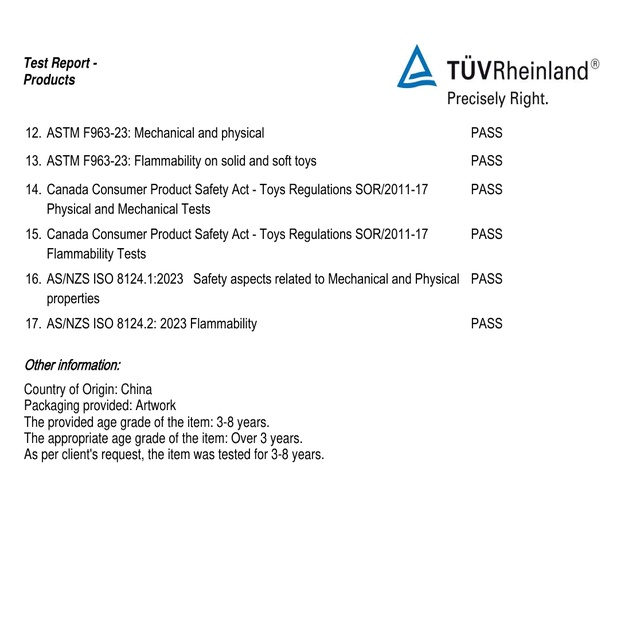tuv_rheinland: (394, 39, 603, 92)
